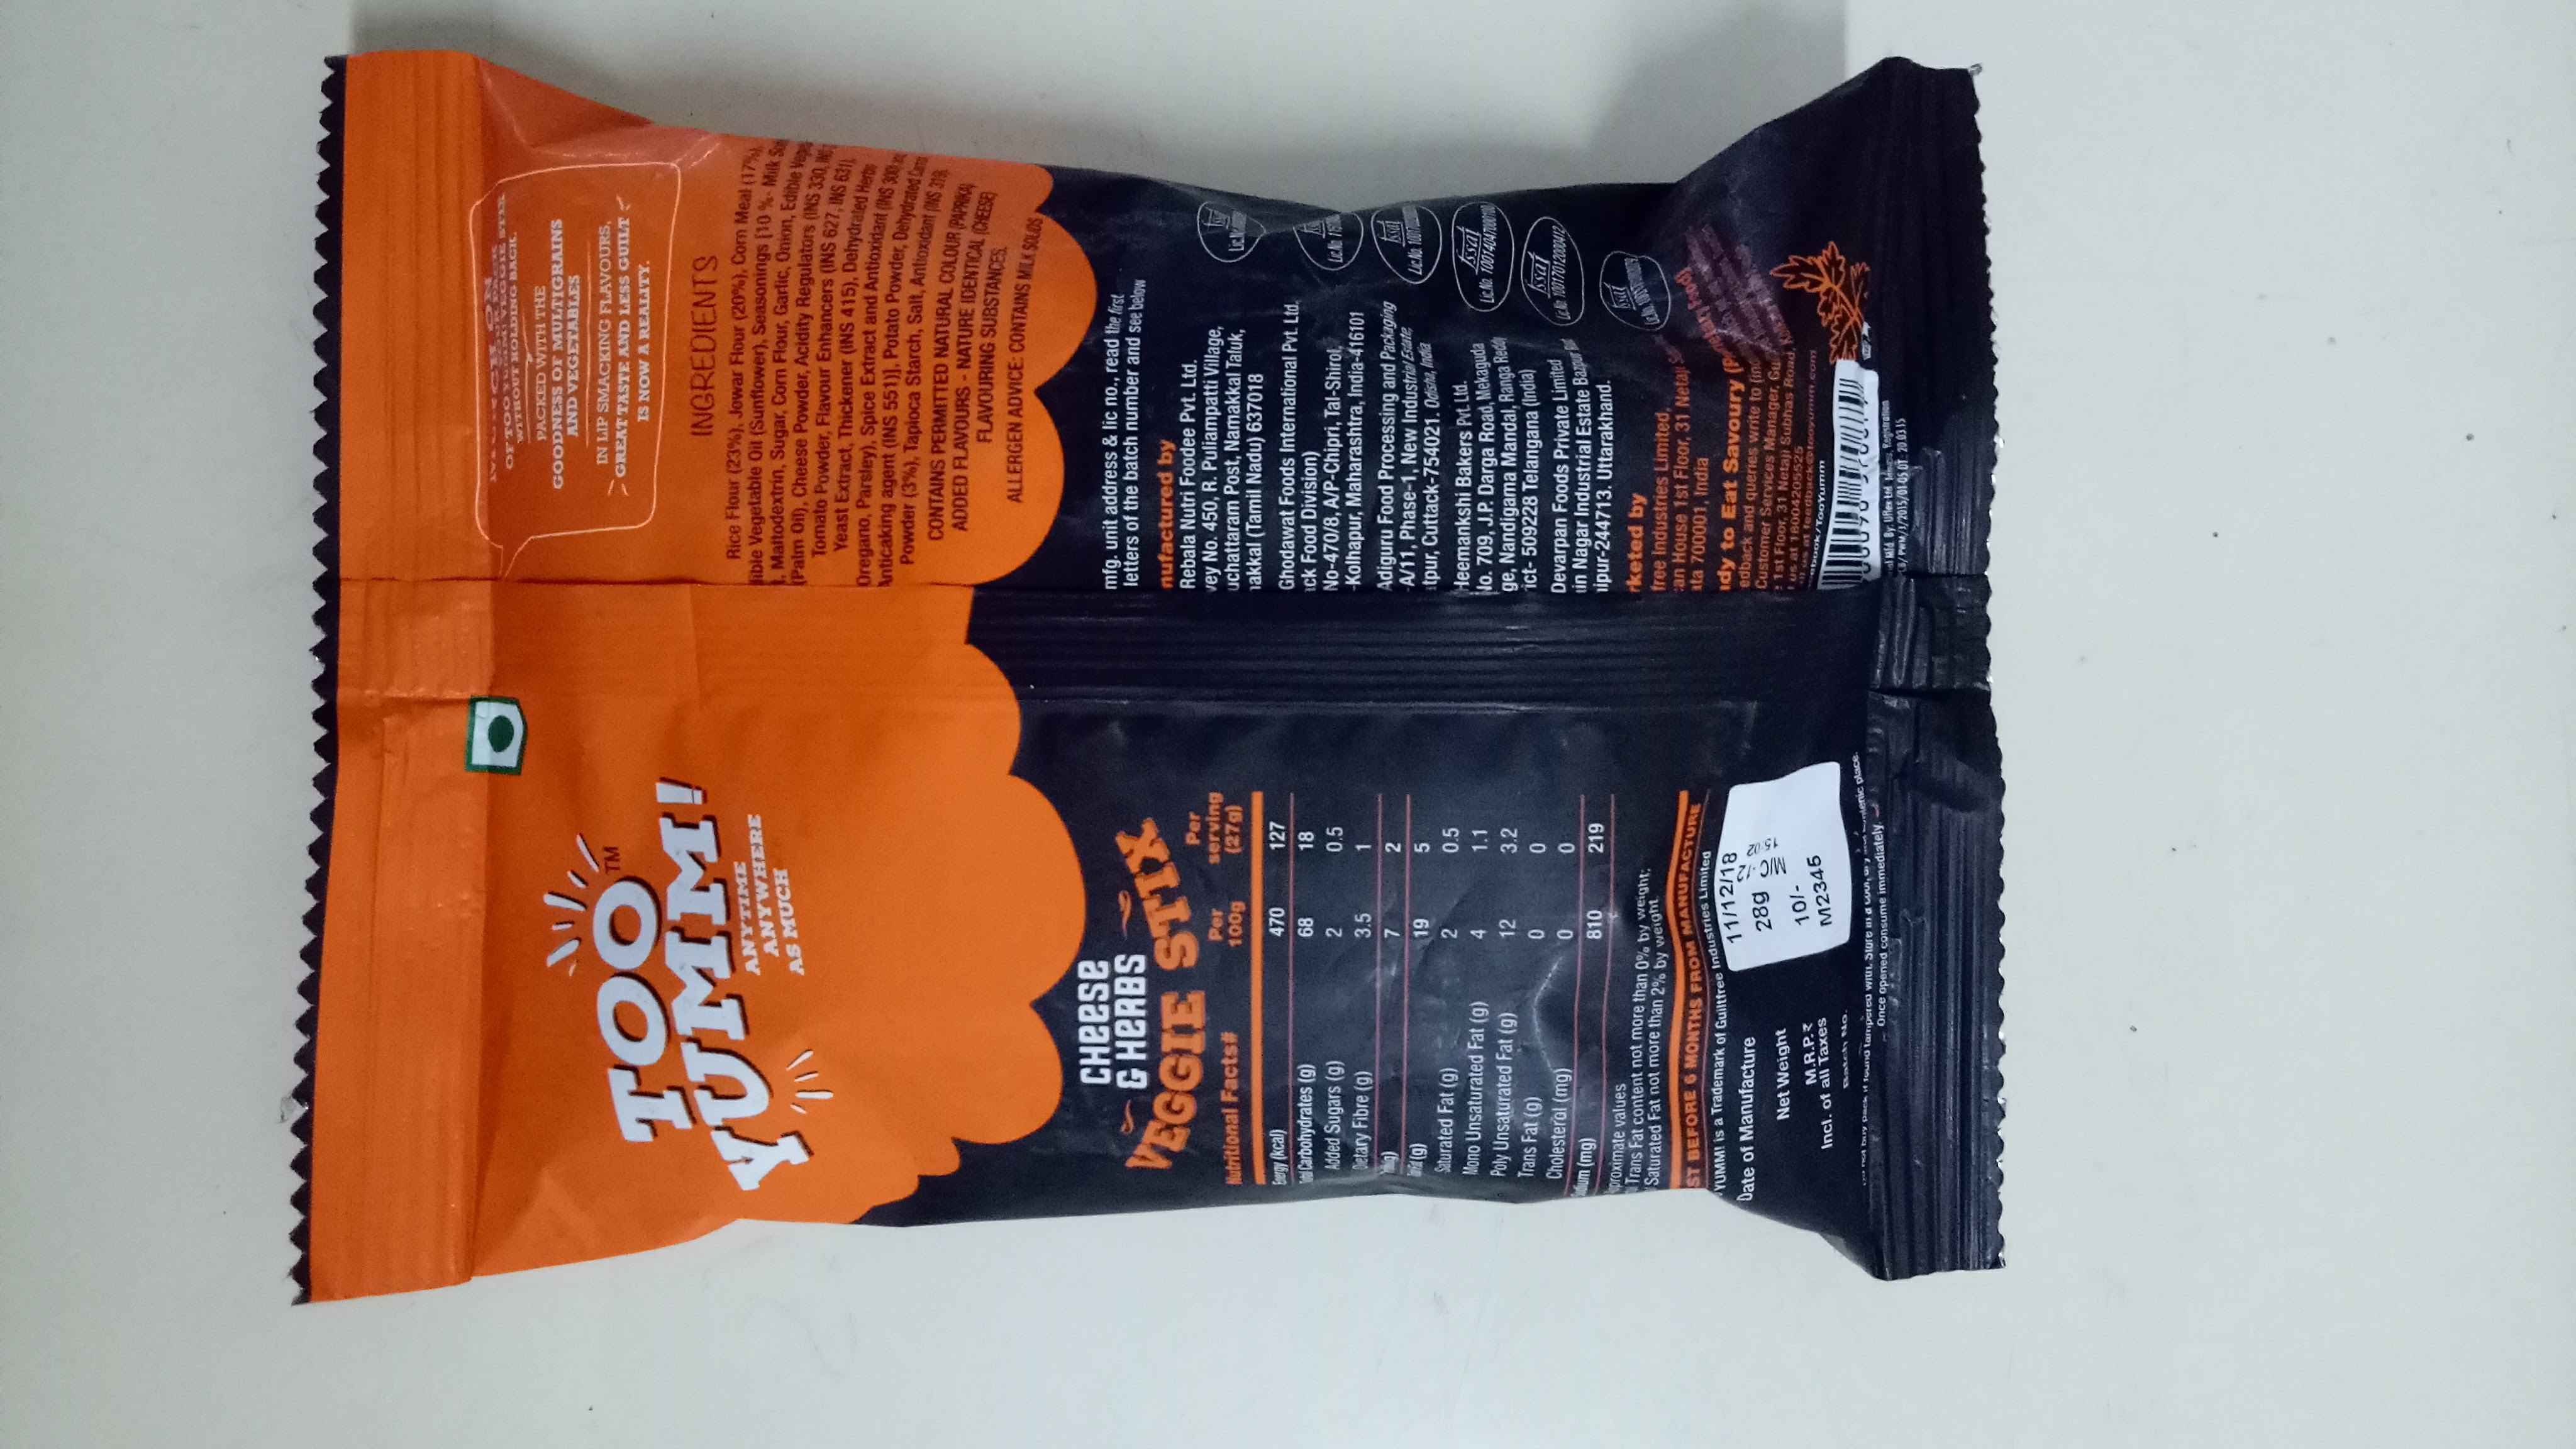tooyumm: (529, 750, 844, 1191)
